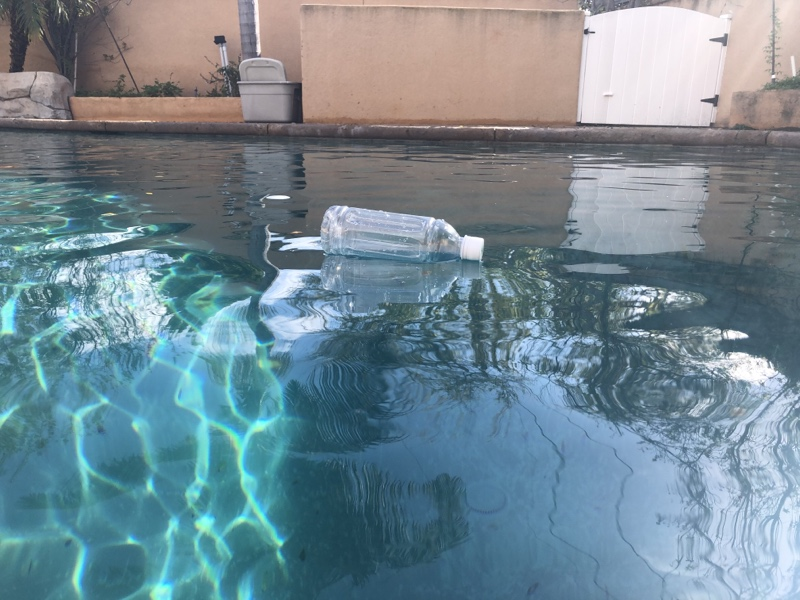Plastic Bottle: (314, 199, 488, 266)
